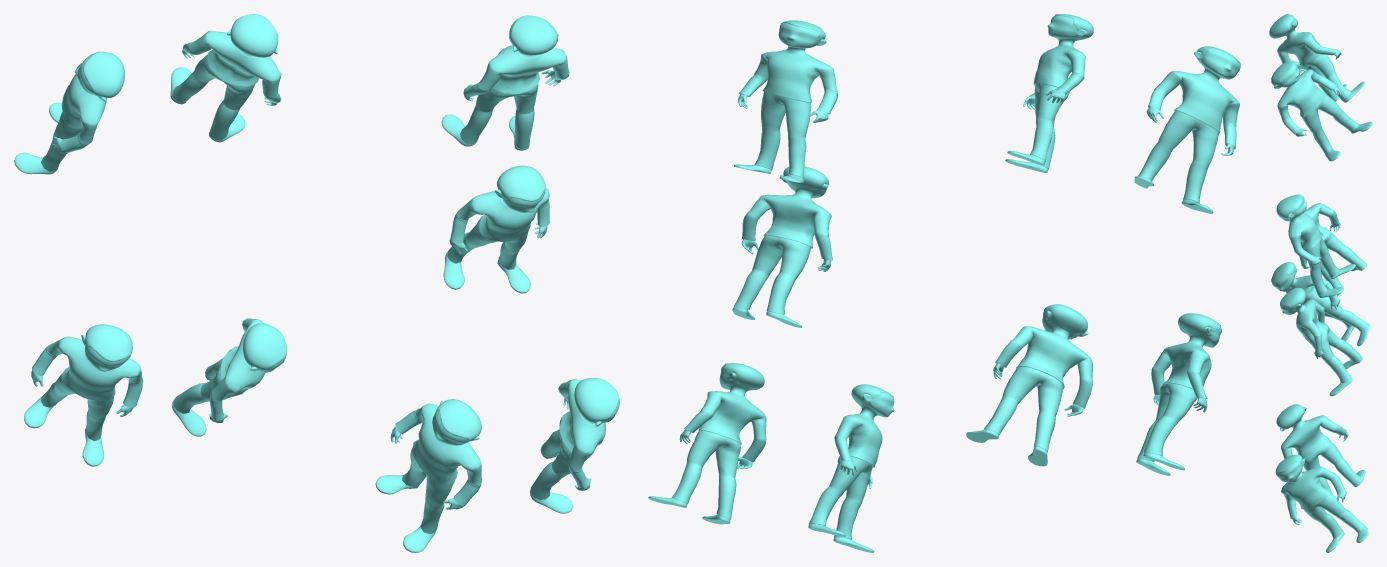
File: personajes 1.glb
3 renders of one model, left to right at view 1: azimuth 30°, elevation 25°; view 2: azimuth 150°, elevation 25°; view 3: azimuth 270°, elevation 25°, orthographic. The views are drawn at different scales.
Parts seen in each view (by area): view 1: mesh_id80, mesh_id78, mesh_id97, mesh_id83, mesh_id84, mesh_id81, mesh_id79, mesh_id82; view 2: mesh_id82, mesh_id83, mesh_id79, mesh_id84, mesh_id81, mesh_id80, mesh_id78, mesh_id97; view 3: mesh_id81, mesh_id97, mesh_id80, mesh_id84, mesh_id83, mesh_id79, mesh_id82, mesh_id78.
Part boxes in pixels (x1,y1,x2,y2): mesh_id80: (375, 399, 481, 552); mesh_id78: (24, 324, 143, 466); mesh_id97: (170, 14, 281, 142); mesh_id83: (441, 15, 569, 150); mesh_id84: (443, 165, 549, 293); mesh_id81: (530, 378, 619, 513); mesh_id79: (14, 51, 124, 174); mesh_id82: (172, 318, 286, 436); mesh_id82: (966, 304, 1092, 466); mesh_id83: (734, 20, 837, 182); mesh_id79: (1134, 46, 1240, 213); mesh_id84: (732, 166, 832, 327); mesh_id81: (648, 363, 766, 524); mesh_id80: (808, 384, 894, 552); mesh_id78: (1136, 313, 1221, 475); mesh_id97: (1005, 14, 1093, 172); mesh_id81: (1275, 454, 1368, 552); mesh_id97: (1271, 61, 1372, 161); mesh_id80: (1276, 404, 1365, 492); mesh_id84: (1280, 287, 1362, 396); mesh_id83: (1276, 195, 1355, 297); mesh_id79: (1269, 14, 1365, 102); mesh_id82: (1271, 262, 1370, 346); mesh_id78: (1280, 194, 1366, 295).
Size of the model in its own units: 0.4028 by 0.3997 by 0.098.
Materials: 1 (1 with a texture image).
